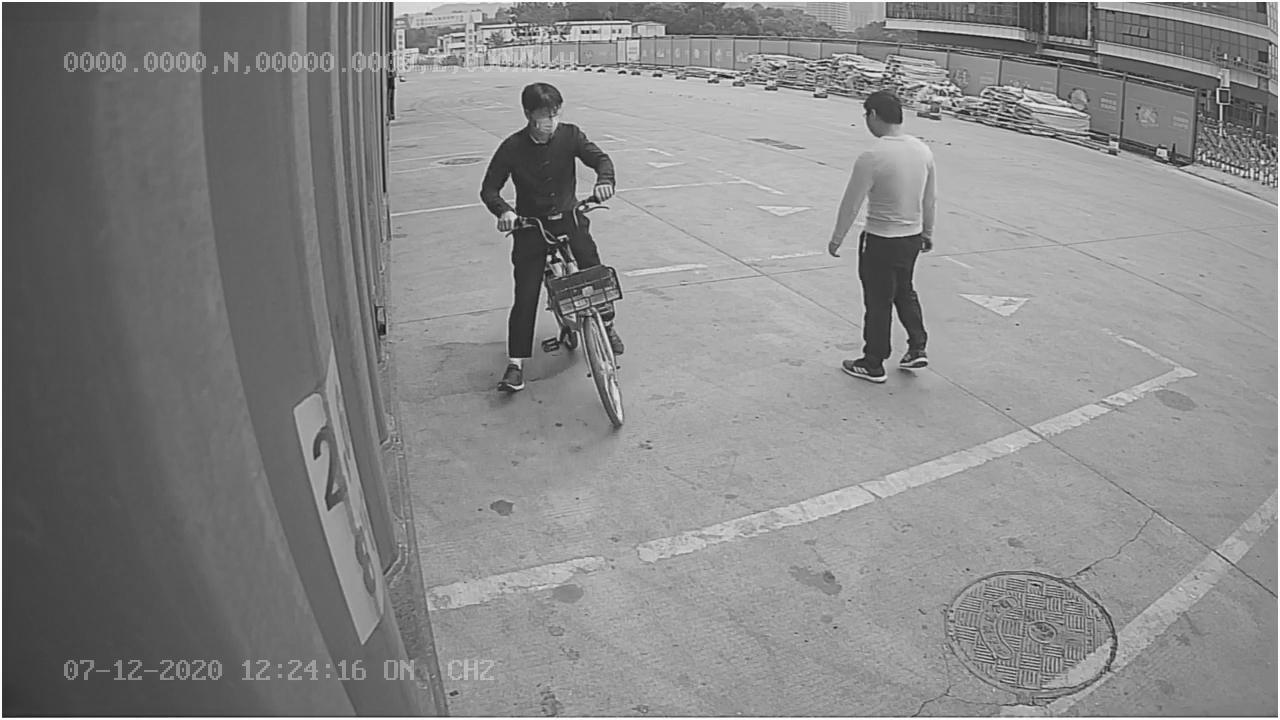person: (822, 84, 942, 391)
